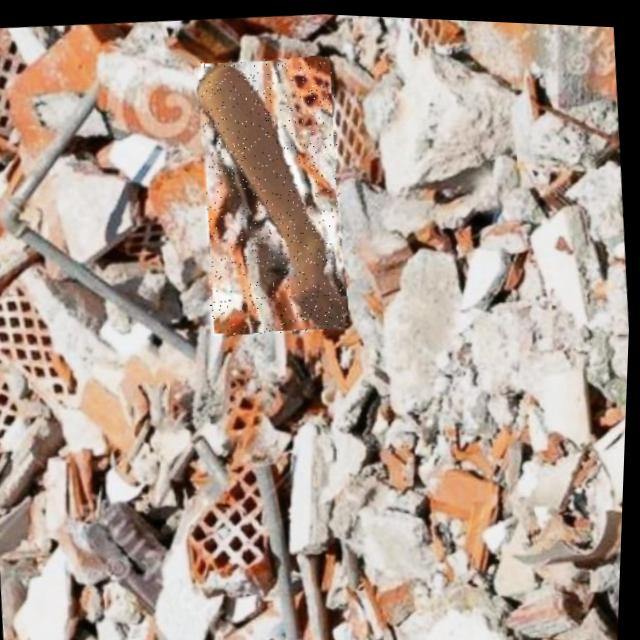Person in Rubble: (190, 46, 356, 337)
